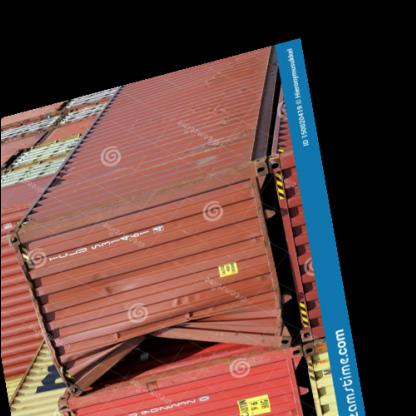Damage: (80, 315, 249, 390)
